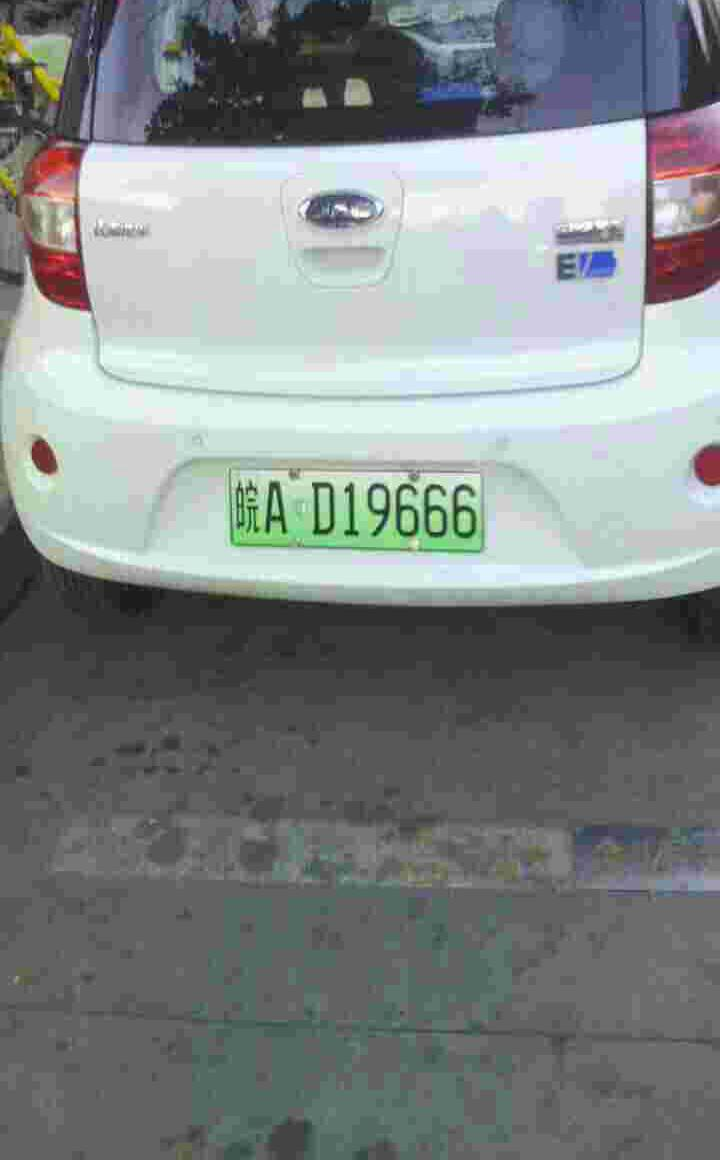car: (224, 466, 504, 551)
